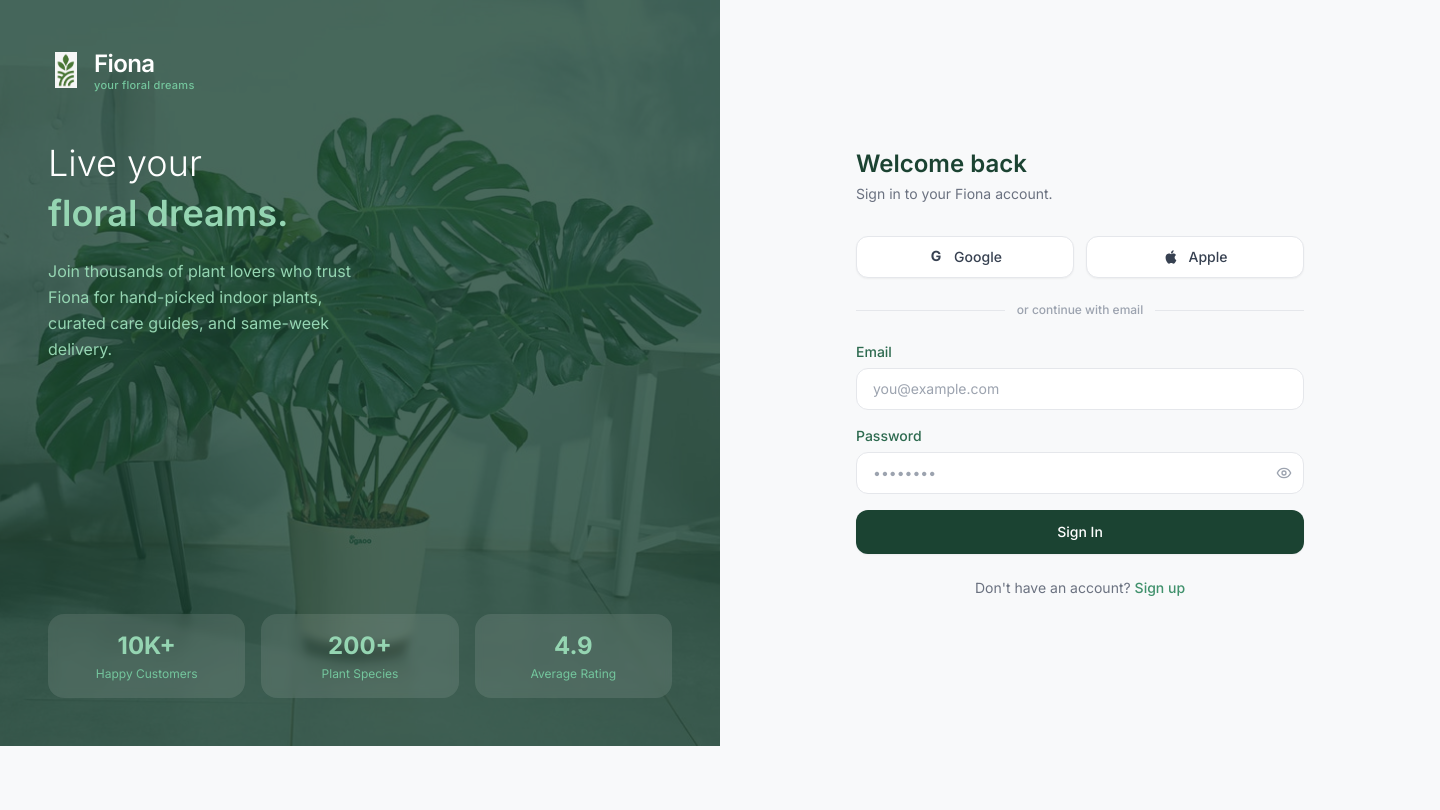
Test: Authentication & Security Boundary Exceptions - AuthPage.tsx › EX-AUTH-02: Login / Register with offline network during submission › handles offline mode when navigator.onLine is false
This screenshot has width=1440, height=810.
Type "offline@example.com" into the field with placeholder "you@example.com" at (1080, 389), box [856,368,1304,410]
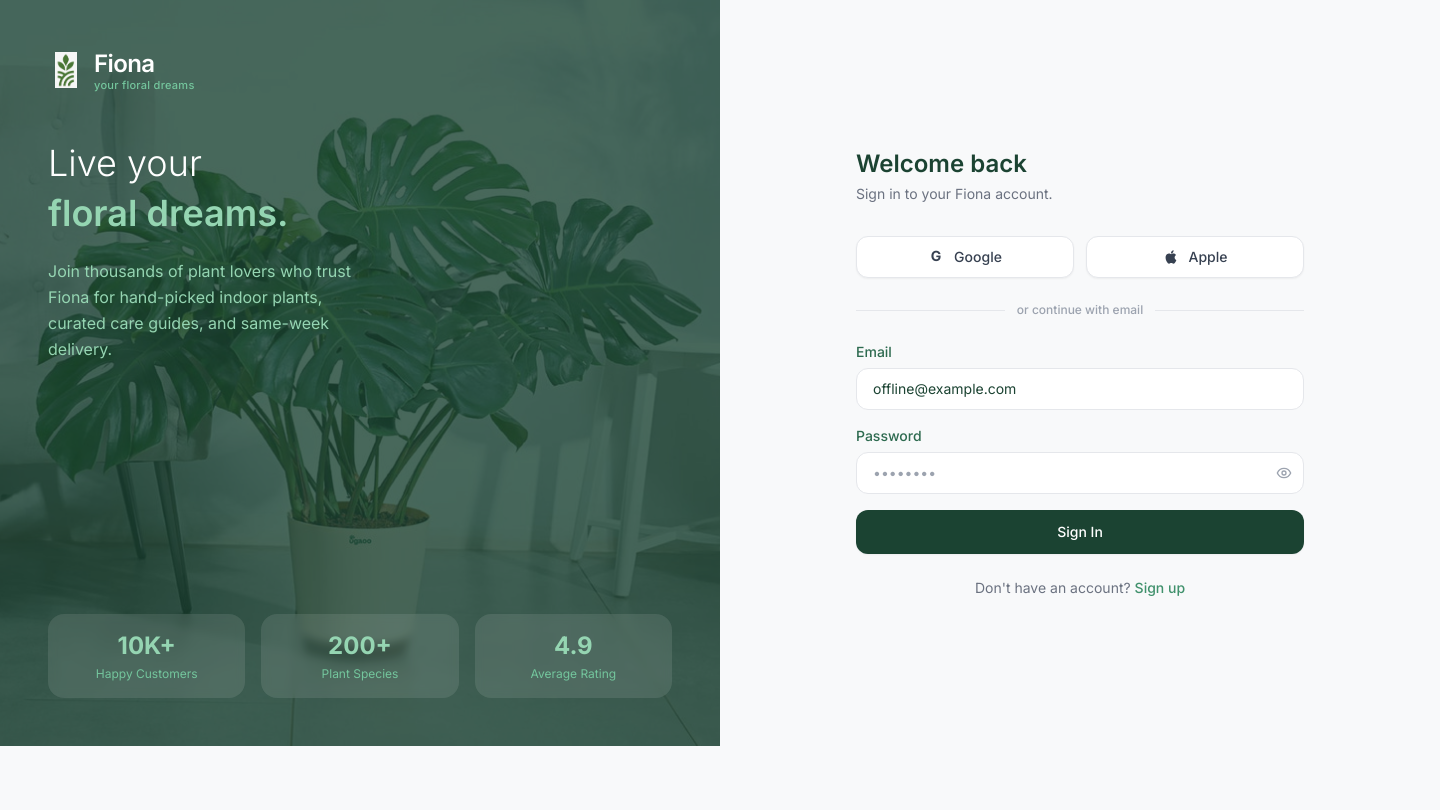
Type "mypassword" into the password field with placeholder "••••••••" at (1080, 473), box [856,452,1304,494]
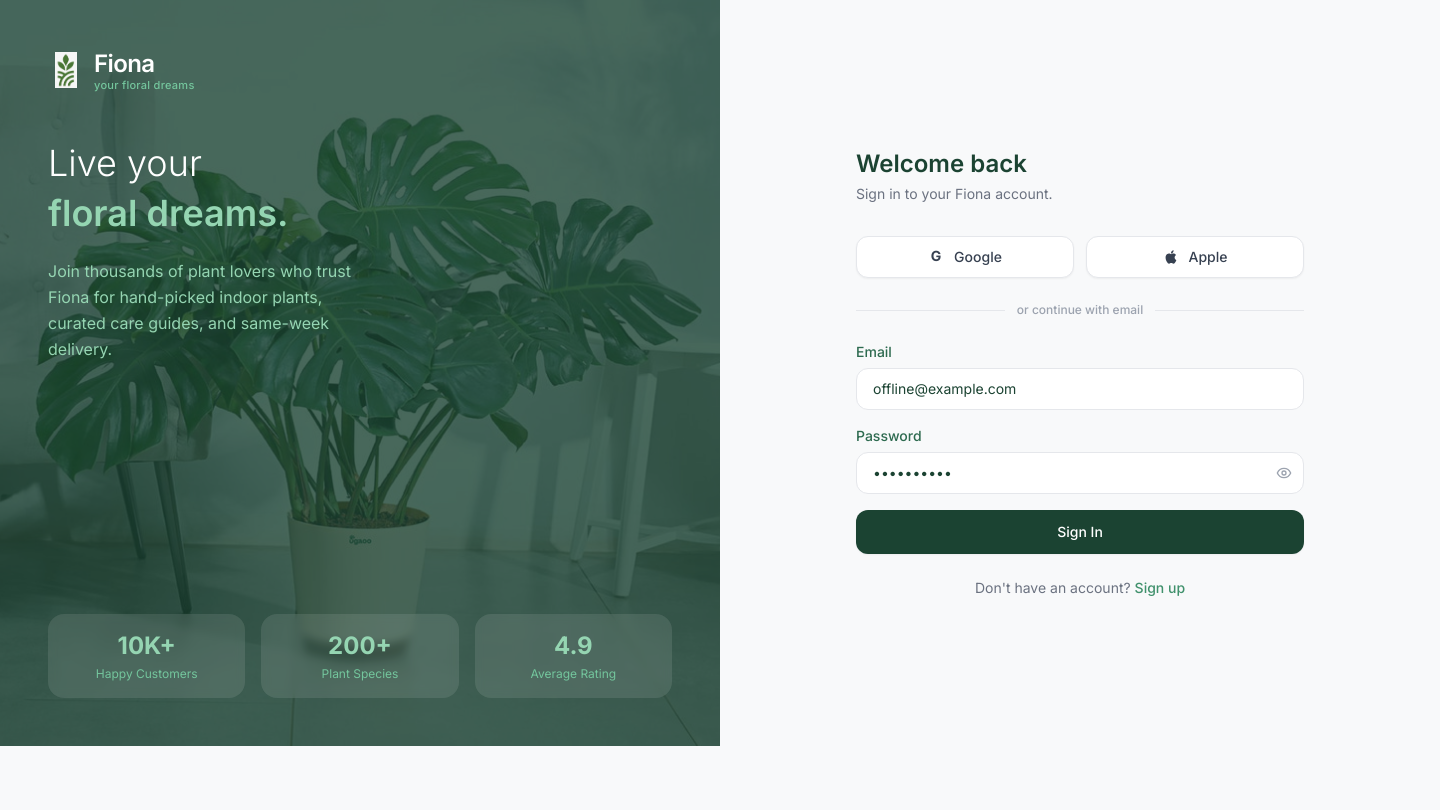
Click the button "Sign In" at (1080, 532), box [856,510,1304,554]
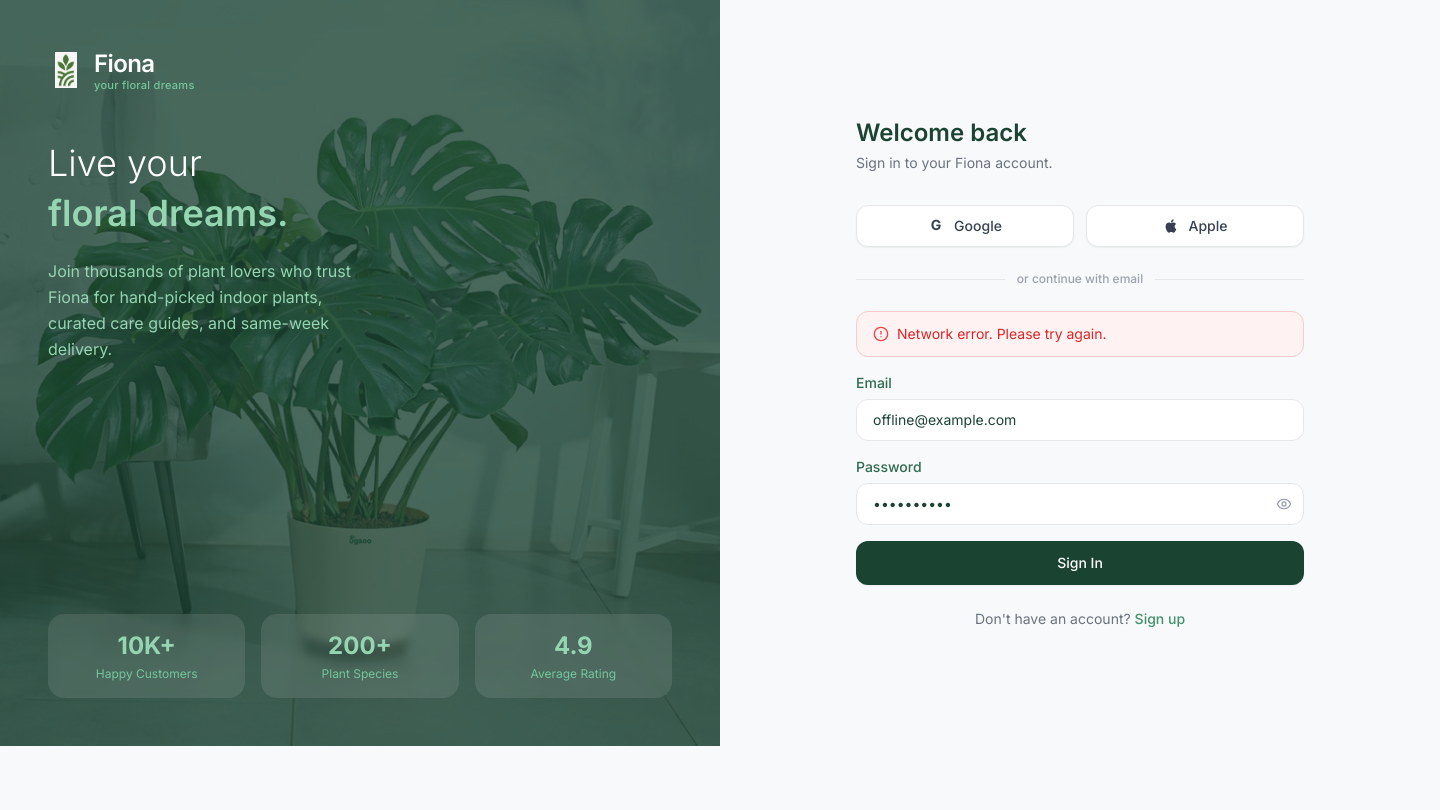
Check: the text "Network error. Please try again." is shown, box [897,324,1106,344]
